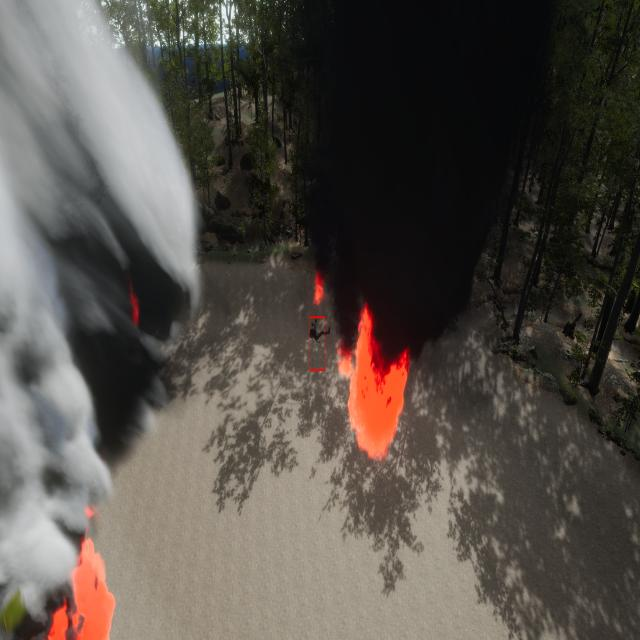Human: (301, 314, 334, 352)
